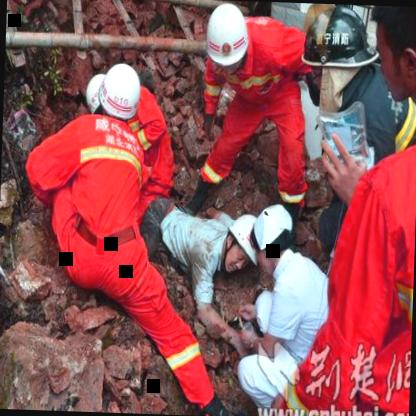head: (369, 6, 416, 112)
helmet: (296, 3, 380, 118), (200, 0, 251, 87), (252, 198, 296, 280), (98, 56, 145, 130), (221, 209, 267, 276), (82, 76, 112, 122)
